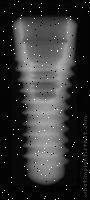Straumann ITI: (3, 14, 77, 188)
